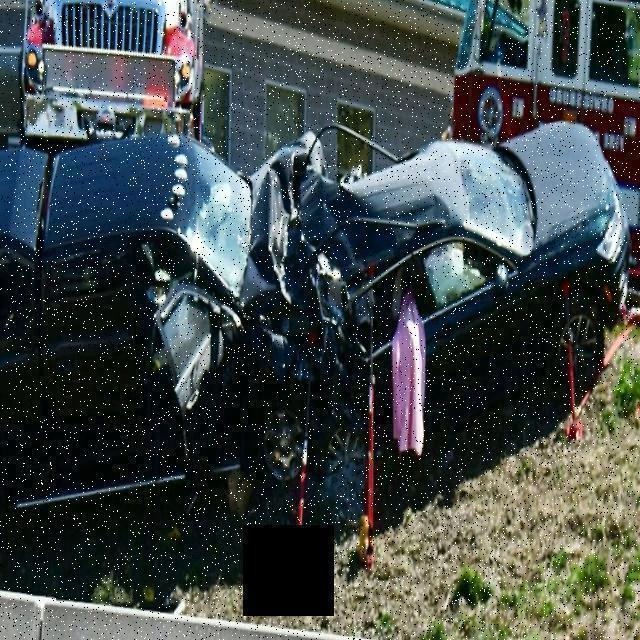multiple_accident: (69, 90, 587, 436)
